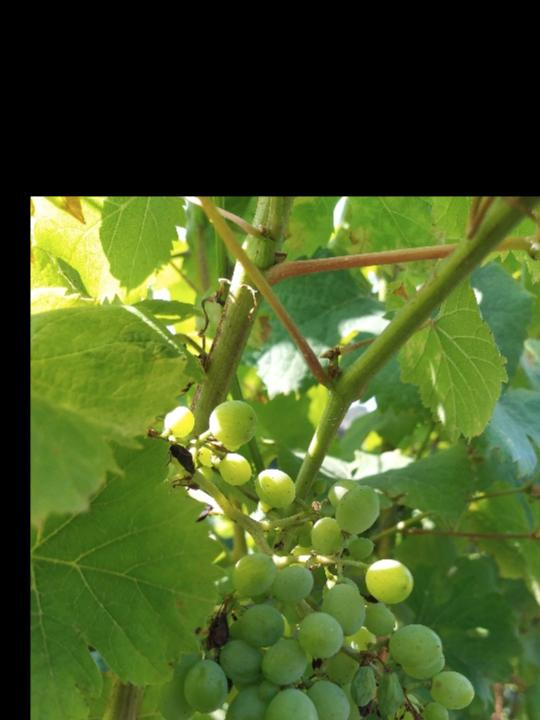grape: (161, 396, 476, 720)
